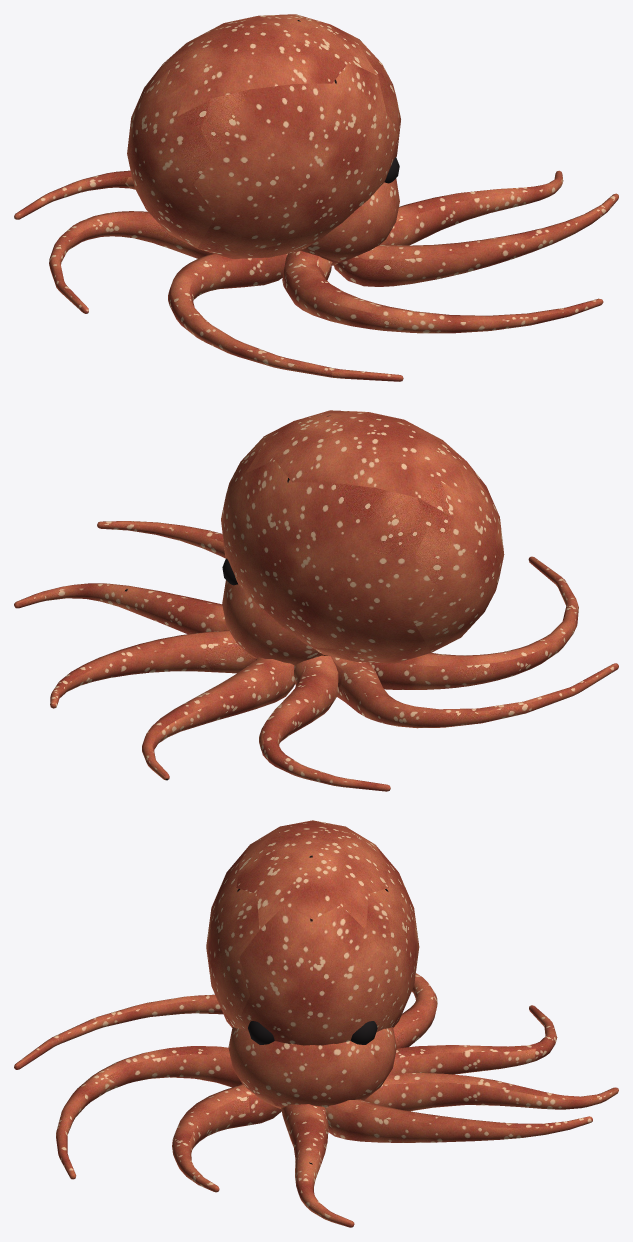
Rendered from pulpo.fbx.
3 renders of one model, top to bottom at view 1: azimuth 30°, elevation 25°; view 2: azimuth 150°, elevation 25°; view 3: azimuth 270°, elevation 25°, orthographic. The views are drawn at different scales.
Visible parts, largest first — view 1: pulpo; view 2: pulpo; view 3: pulpo.
Part boxes in pixels (x1,y1,x2,y2): pulpo: [14, 14, 618, 381]; pulpo: [14, 410, 618, 791]; pulpo: [14, 820, 618, 1227].
Bounding box in the file's own units: 1.1 × 0.5072 × 1.1.
1 material, 1 textured.
